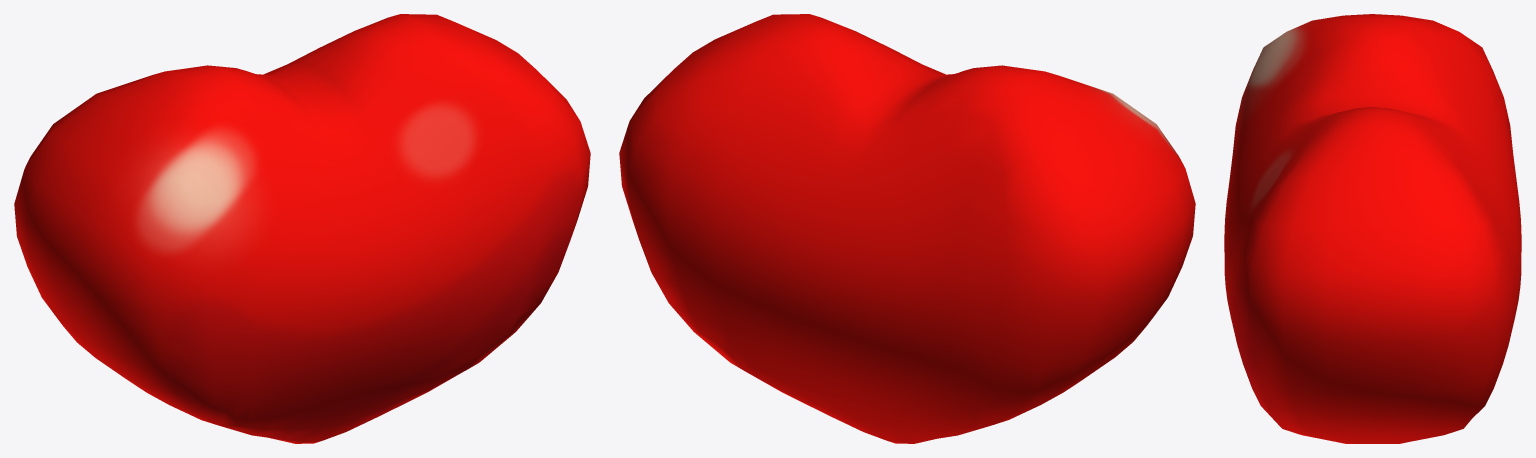
Rendered from Heart_effect.FBX.
The picture shows the model from 3 angles, left to right: view 1: azimuth 30°, elevation 25°; view 2: azimuth 150°, elevation 25°; view 3: azimuth 270°, elevation 25°; orthographic projection. The views are drawn at different scales.
Visible parts, largest first — view 1: Heart; view 2: Heart; view 3: Heart.
Boxes of the visible parts, x1,y1,x2,y2 form: Heart: [14, 14, 590, 443]; Heart: [619, 14, 1195, 443]; Heart: [1224, 14, 1521, 443].
Bounding box in the file's own units: 48.06 × 34.44 × 25.22.
